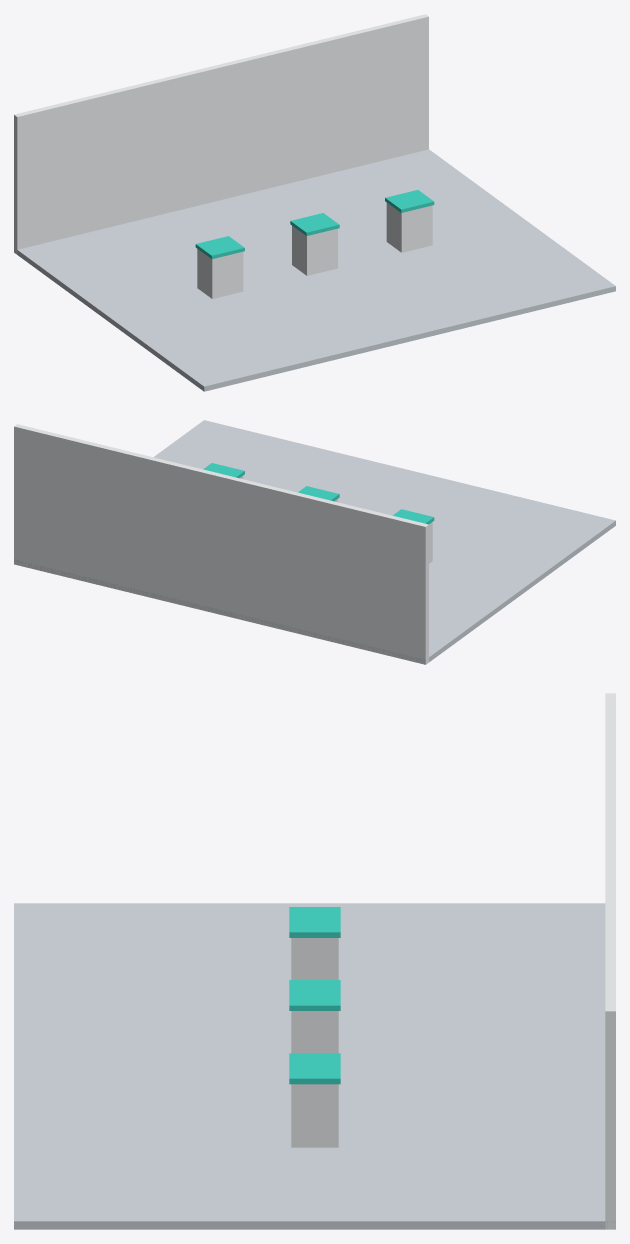
The picture shows the model from 3 angles, top to bottom: view 1: azimuth 30°, elevation 25°; view 2: azimuth 150°, elevation 25°; view 3: azimuth 270°, elevation 25°; orthographic projection. The views are drawn at different scales.
Visible parts, largest first — view 1: Exhibition Booth Concept; view 2: Exhibition Booth Concept; view 3: Exhibition Booth Concept.
Part boxes in pixels (left/top/right/bottom): Exhibition Booth Concept: left=14, top=14, right=615, bottom=391; Exhibition Booth Concept: left=14, top=420, right=615, bottom=664; Exhibition Booth Concept: left=14, top=693, right=615, bottom=1229.
Size of the model in its own units: 10 by 3.2 by 8.
